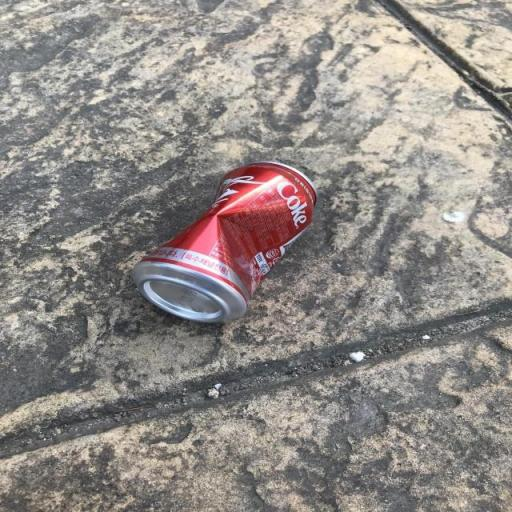metal: (120, 147, 322, 342)
